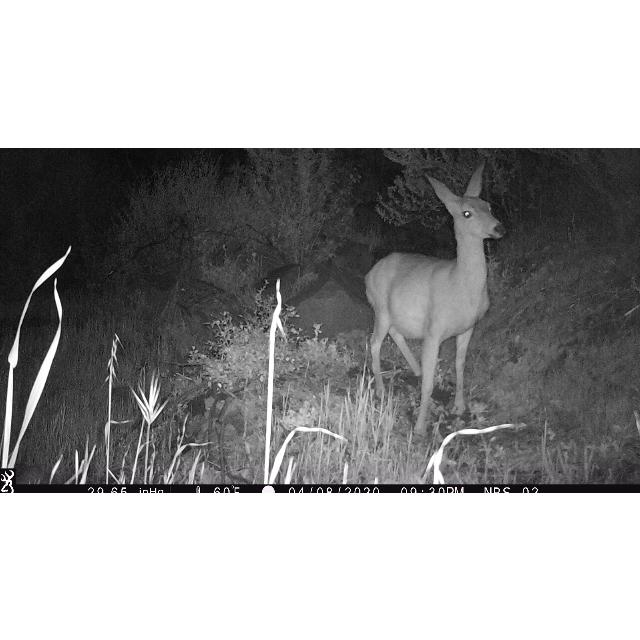animals: (363, 162, 507, 438)
